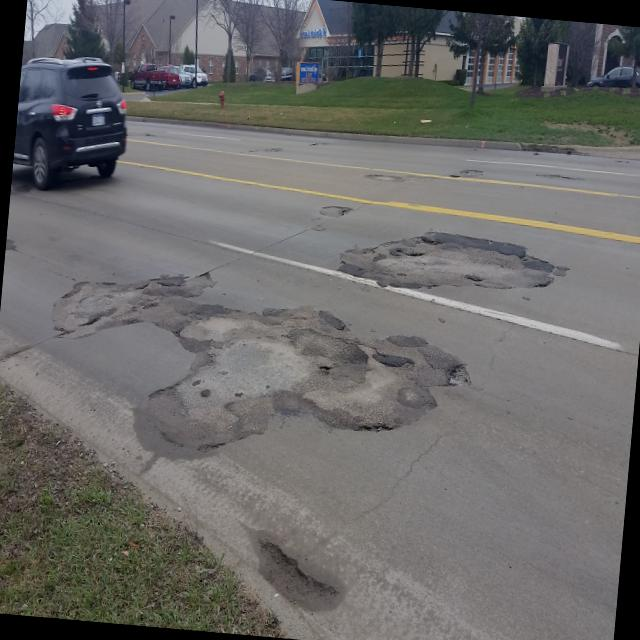bad-road: (39, 258, 481, 476), (335, 218, 571, 301), (254, 534, 342, 604)
